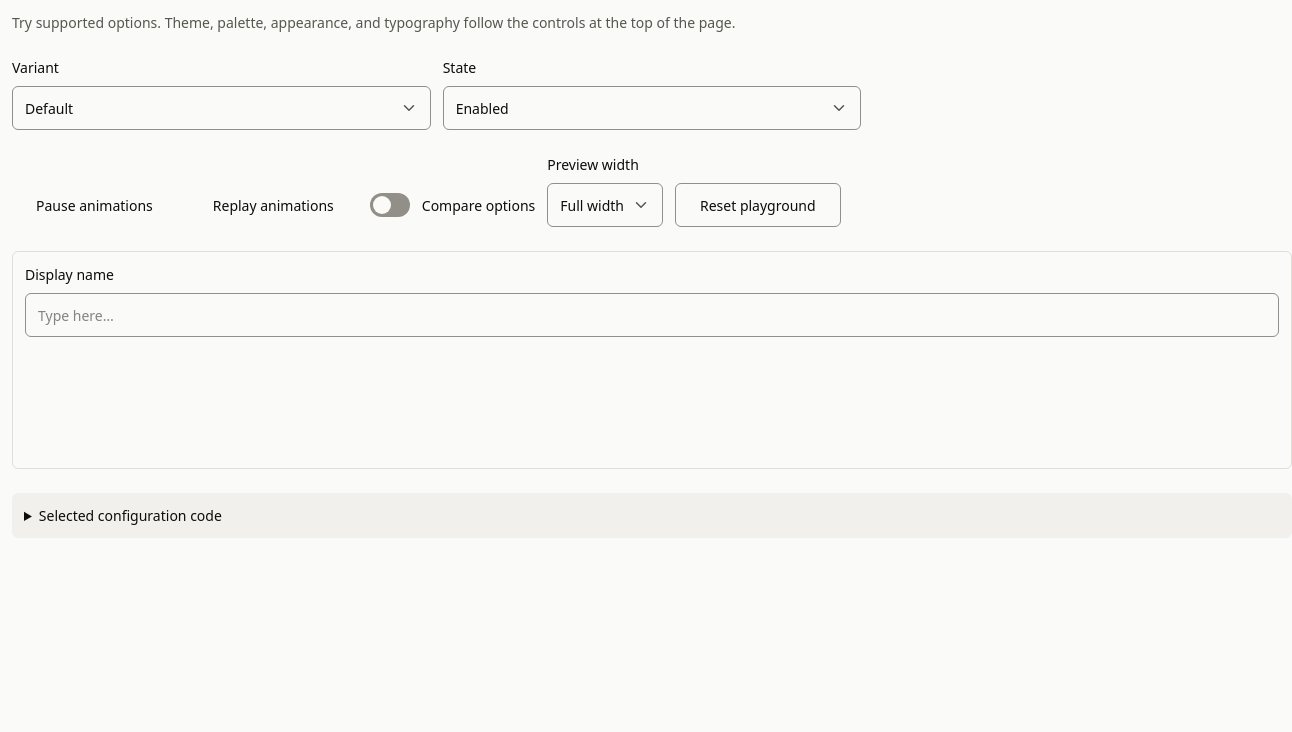
component playground › keeps compared form labels unique and connects their errors
The width and height of the screenshot is (1292, 732).
Click the dropdown named "State" at x=482, y=108, box 443,86 -> 861,130
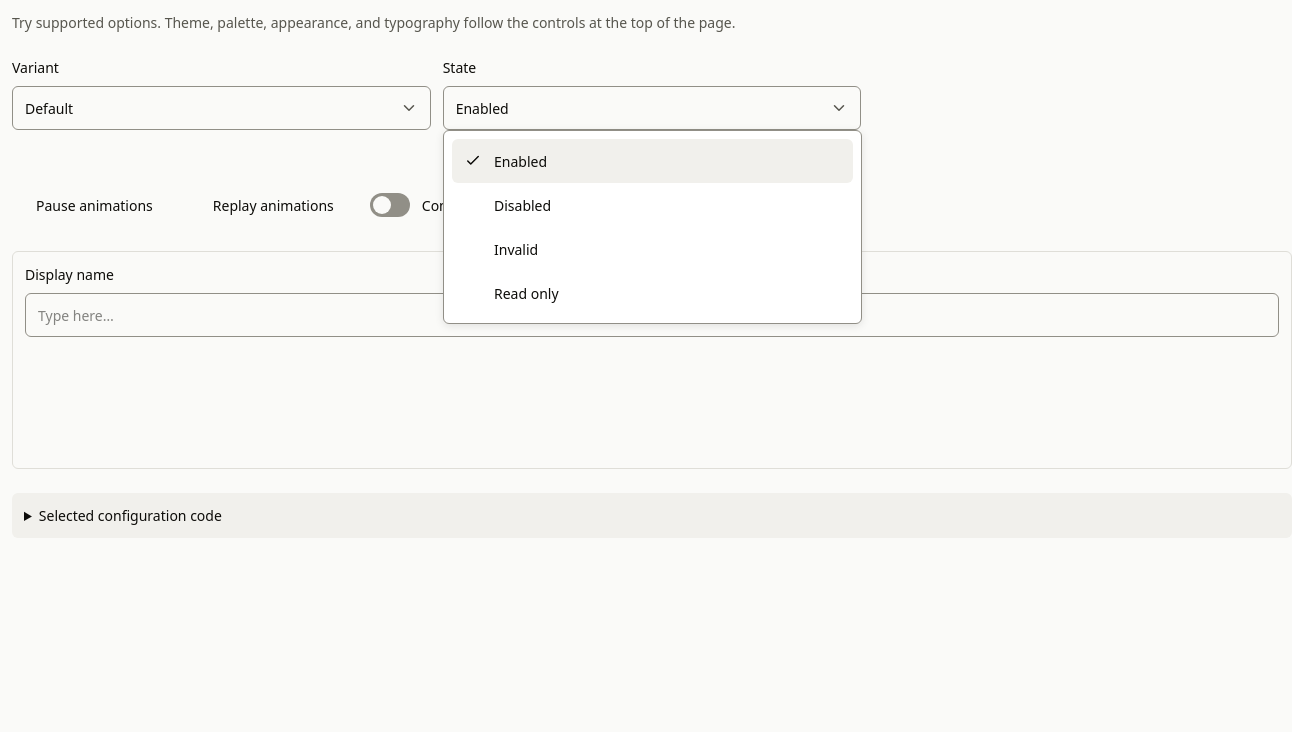
Click the option "Invalid" at x=516, y=249, box 494,240 -> 538,258
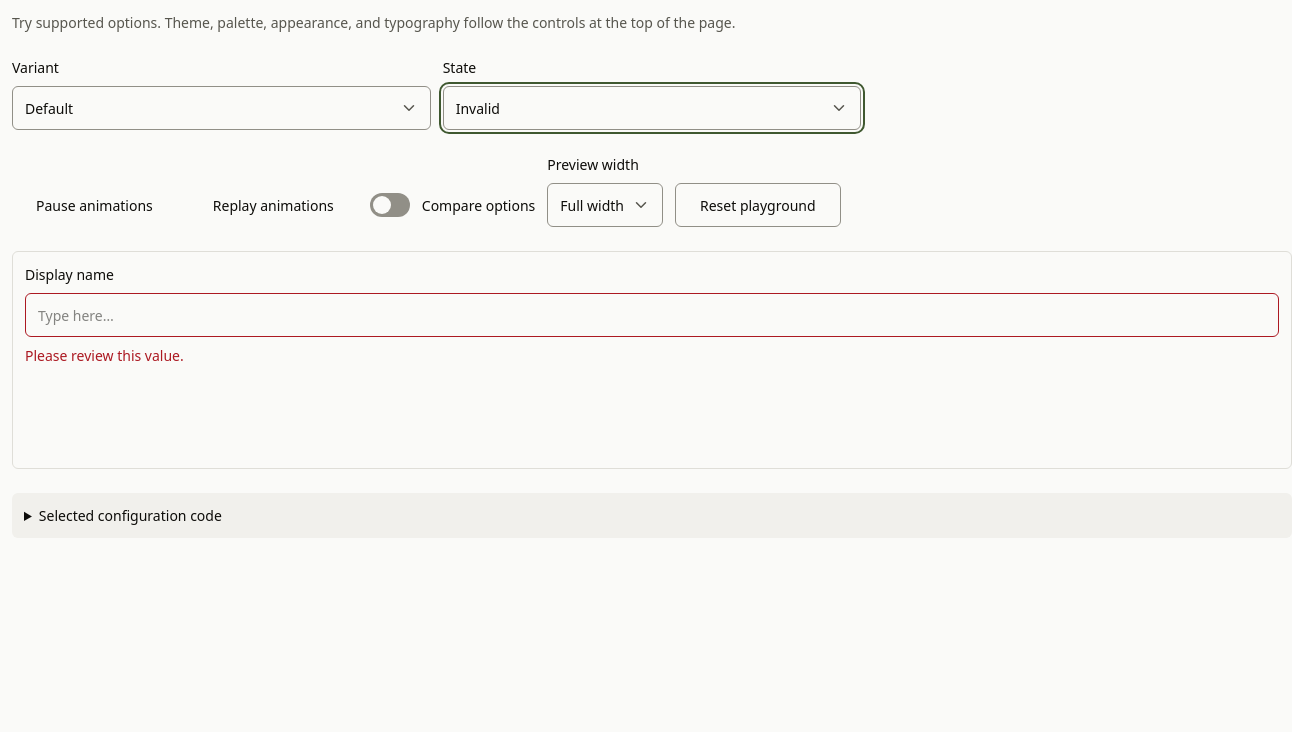
Click the switch named "Compare options" at x=392, y=205, box 370,183 -> 414,227
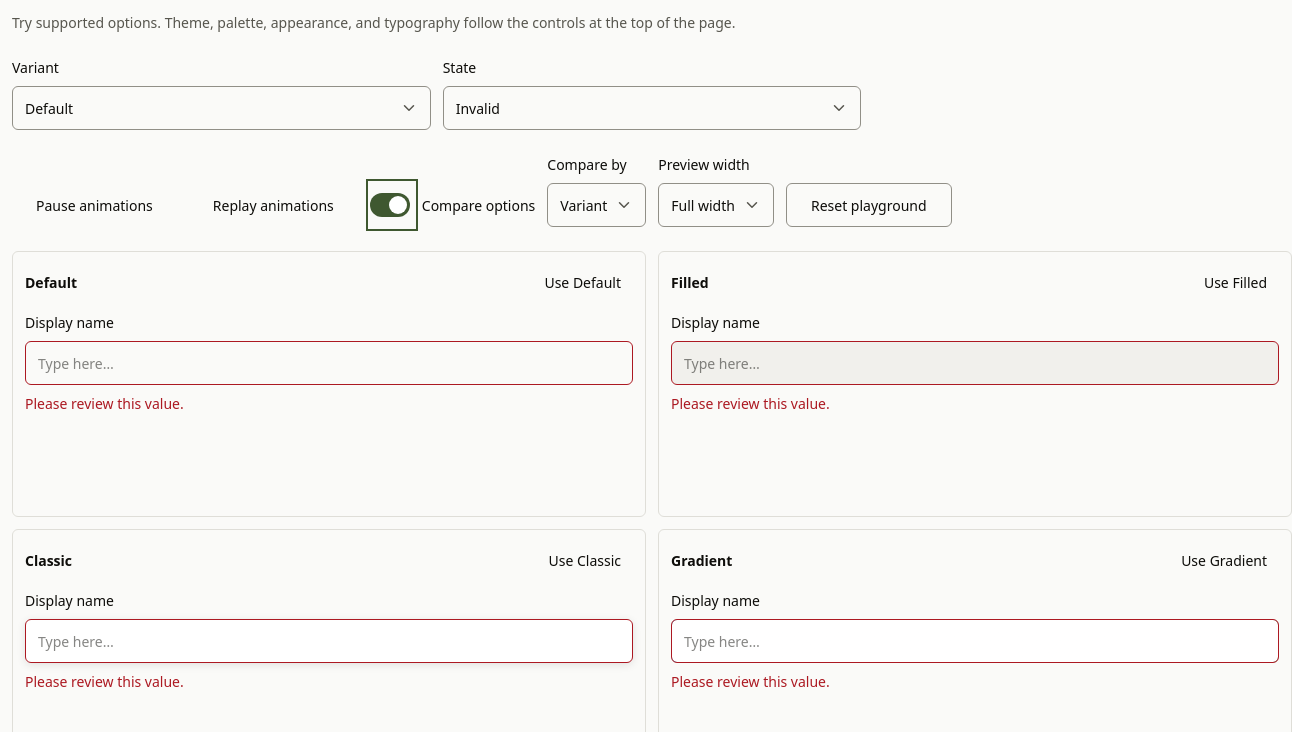
Check: the 4th message "Please review this value." is shown, box 671,672 -> 830,691
